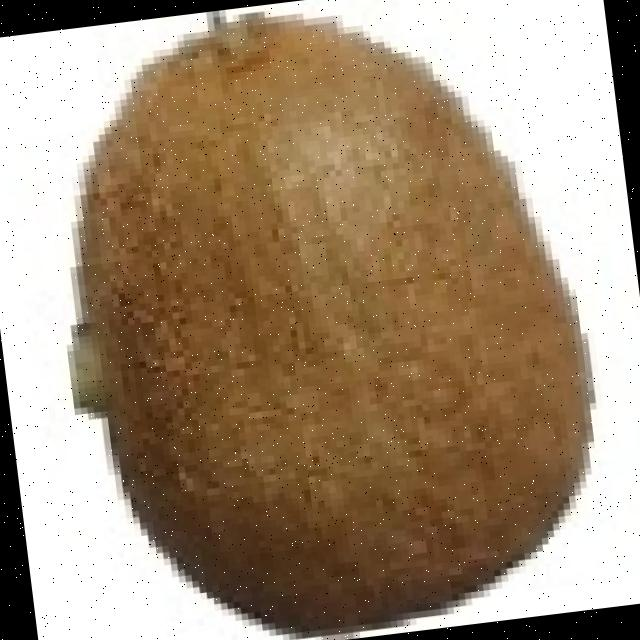kiwi: (83, 11, 594, 623)
